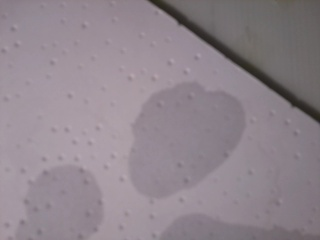Water_detected: (133, 100, 247, 240), (40, 175, 94, 237)
